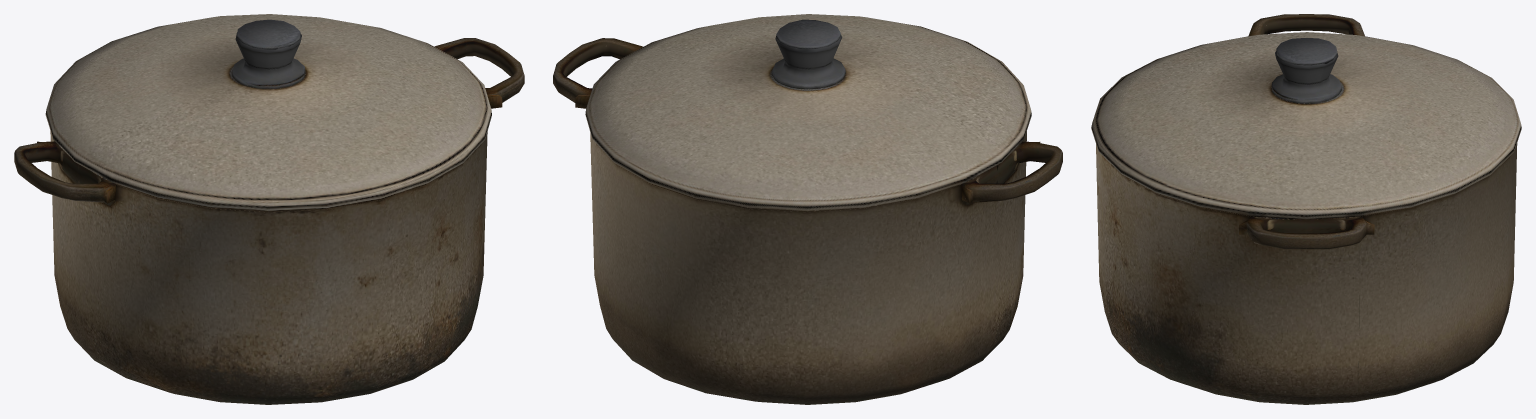
Rendered from stage4_pot.fbx.
The picture shows the model from 3 angles, left to right: view 1: azimuth 30°, elevation 25°; view 2: azimuth 150°, elevation 25°; view 3: azimuth 270°, elevation 25°; orthographic projection. The views are drawn at different scales.
Visible parts, largest first — view 1: stage4_pot2; view 2: stage4_pot2; view 3: stage4_pot2.
Part boxes in pixels (left/top/right/bottom): stage4_pot2: left=14, top=14, right=524, bottom=404; stage4_pot2: left=553, top=14, right=1062, bottom=404; stage4_pot2: left=1091, top=14, right=1521, bottom=404.
Bounding box in the file's own units: 71.98 × 41.9 × 58.52.
